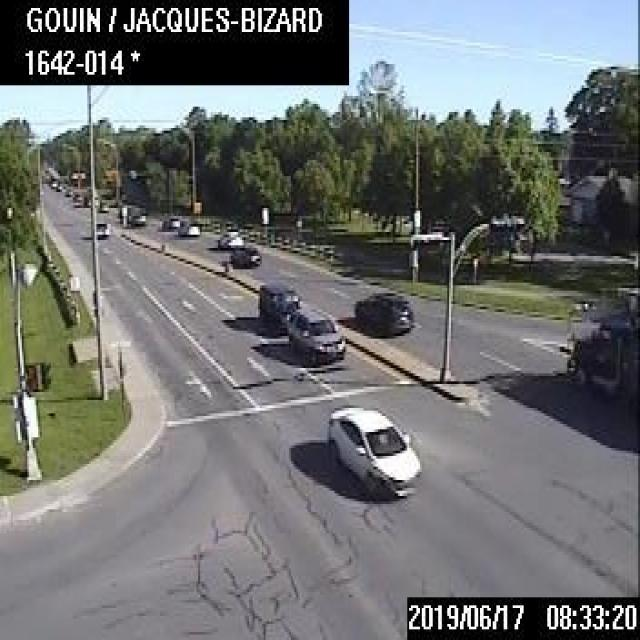vehicle: (326, 404, 422, 496), (564, 284, 638, 398), (286, 306, 344, 363), (352, 290, 412, 334), (256, 280, 299, 334), (229, 243, 260, 266), (216, 230, 242, 247), (177, 219, 199, 235), (160, 214, 178, 228), (94, 220, 108, 237), (128, 208, 144, 222), (96, 197, 108, 211), (71, 191, 81, 200), (63, 185, 71, 195), (54, 183, 61, 190), (50, 179, 57, 186)
